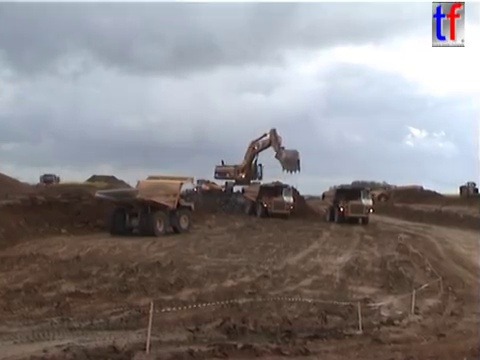excavator: (212, 126, 303, 197)
truck: (92, 173, 197, 237), (239, 181, 296, 219), (320, 186, 374, 226), (369, 182, 425, 205), (193, 177, 224, 197), (40, 172, 58, 187)
wheel loader: (457, 180, 480, 201)
